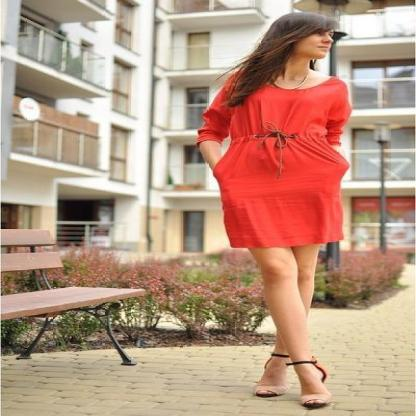dress: (197, 77, 361, 248)
shoe: (298, 375, 318, 396)
